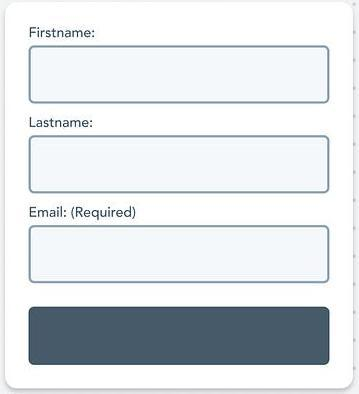button: (30, 307, 330, 368)
input: (31, 227, 329, 284), (31, 48, 329, 104), (31, 137, 329, 193)
label: (26, 203, 139, 221), (27, 113, 95, 132), (30, 26, 97, 42)
